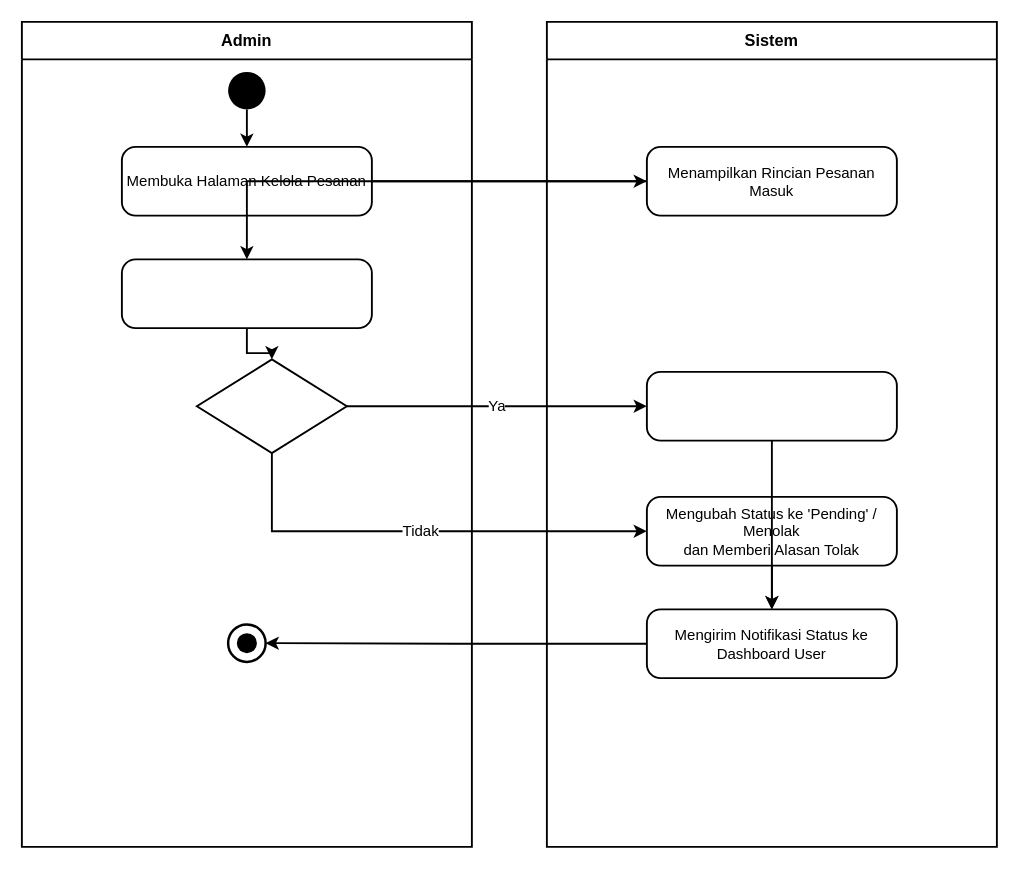
Some shapes in this 1020 by 870 pixel diagram are drawn without their labels. Here are the shapes that lost their labels. From the top down, the centre of each, then its label:
the point at 246,293: Memeriksa Bukti Pembayaran Transaksi
the point at 271,406: Pembayaran Valid?
the point at 771,405: Mengubah Status ke 'Processed'/'Shipped' dan Update Stok Produk
